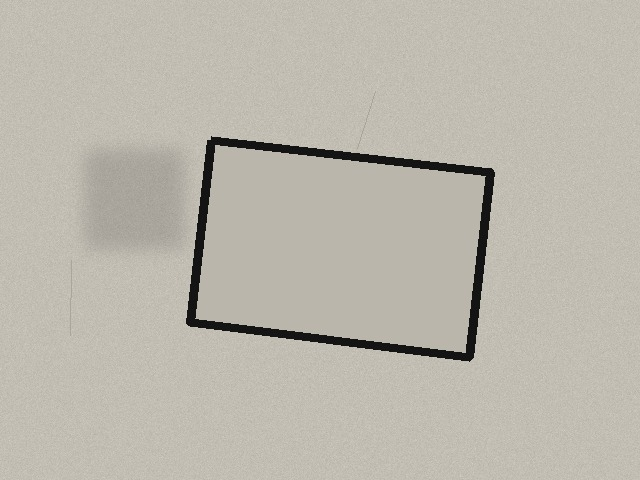parking_area: (190, 140, 490, 357)
